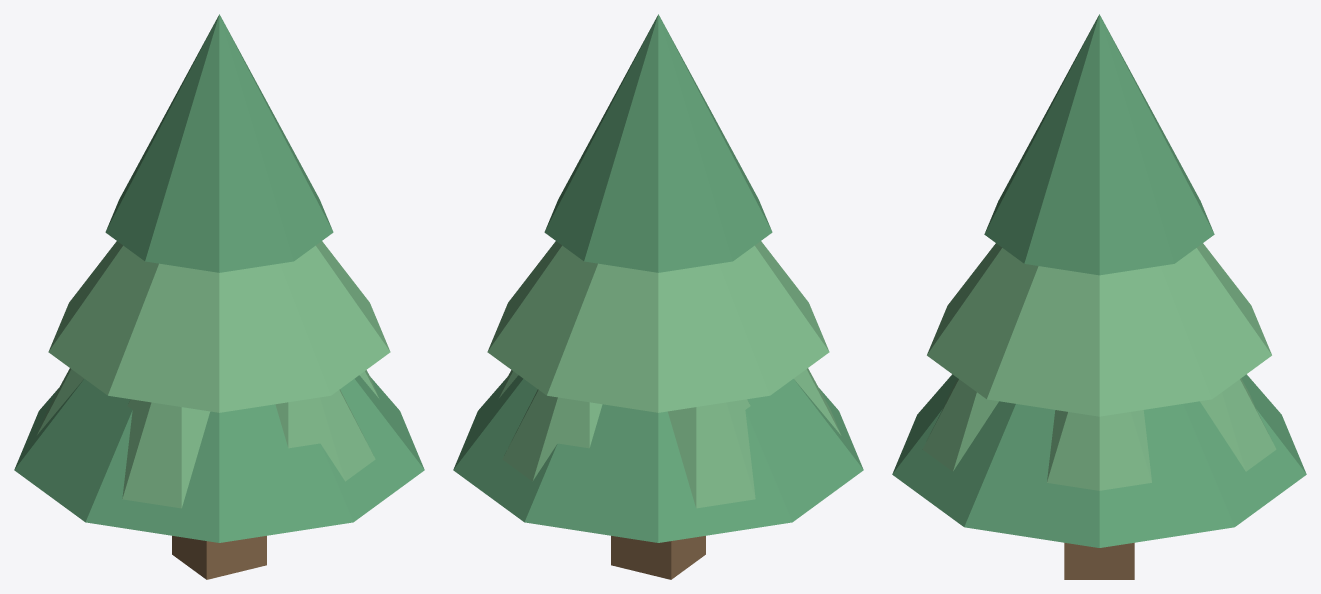
Rendered from aetherwild-tree.glb.
3 renders of one model, left to right at view 1: azimuth 30°, elevation 25°; view 2: azimuth 150°, elevation 25°; view 3: azimuth 270°, elevation 25°, orthographic.
Bounding box in the file's own units: 17.46 × 26 × 17.73.
